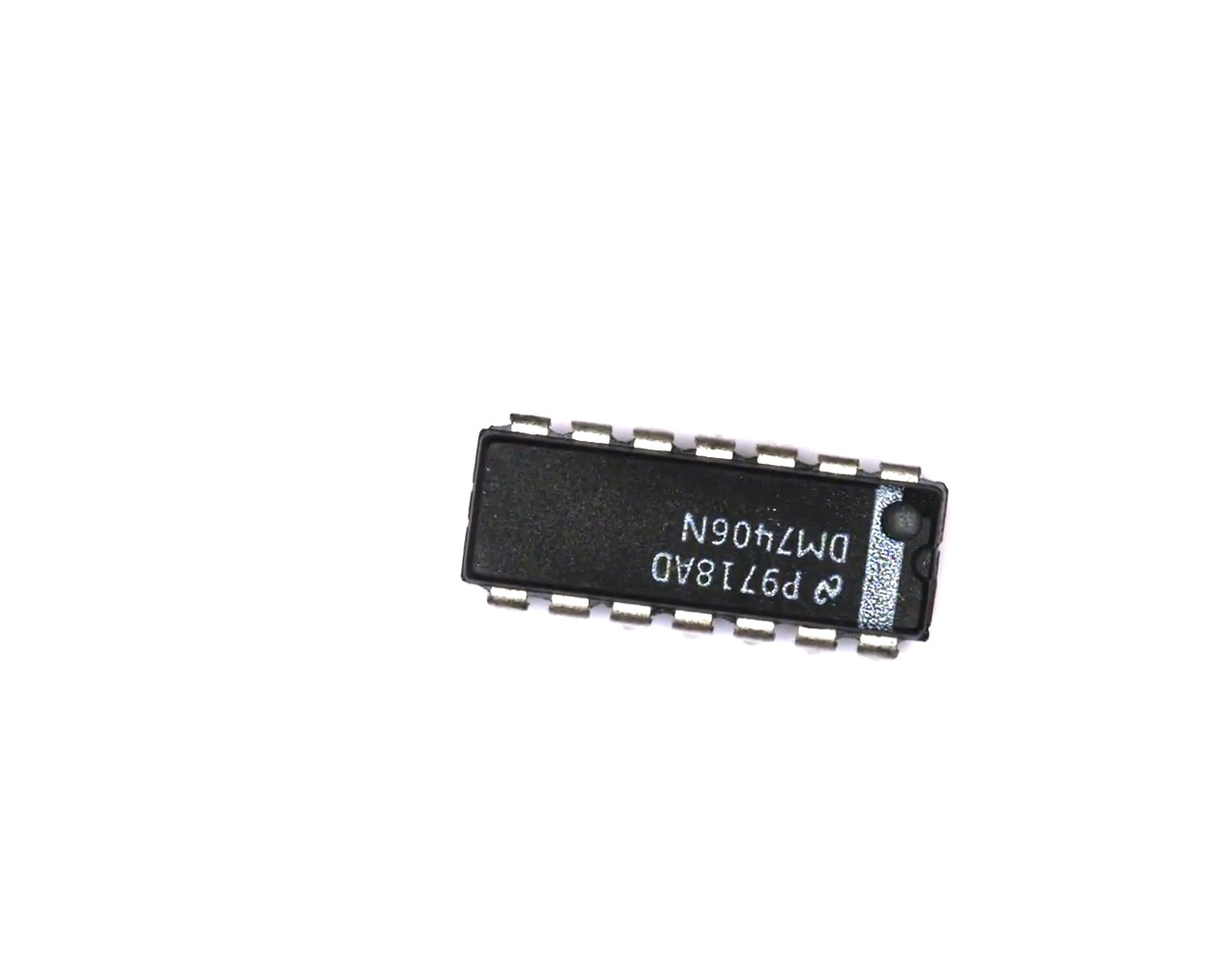IC: (444, 395, 959, 672)
notch: (906, 536, 944, 589)
